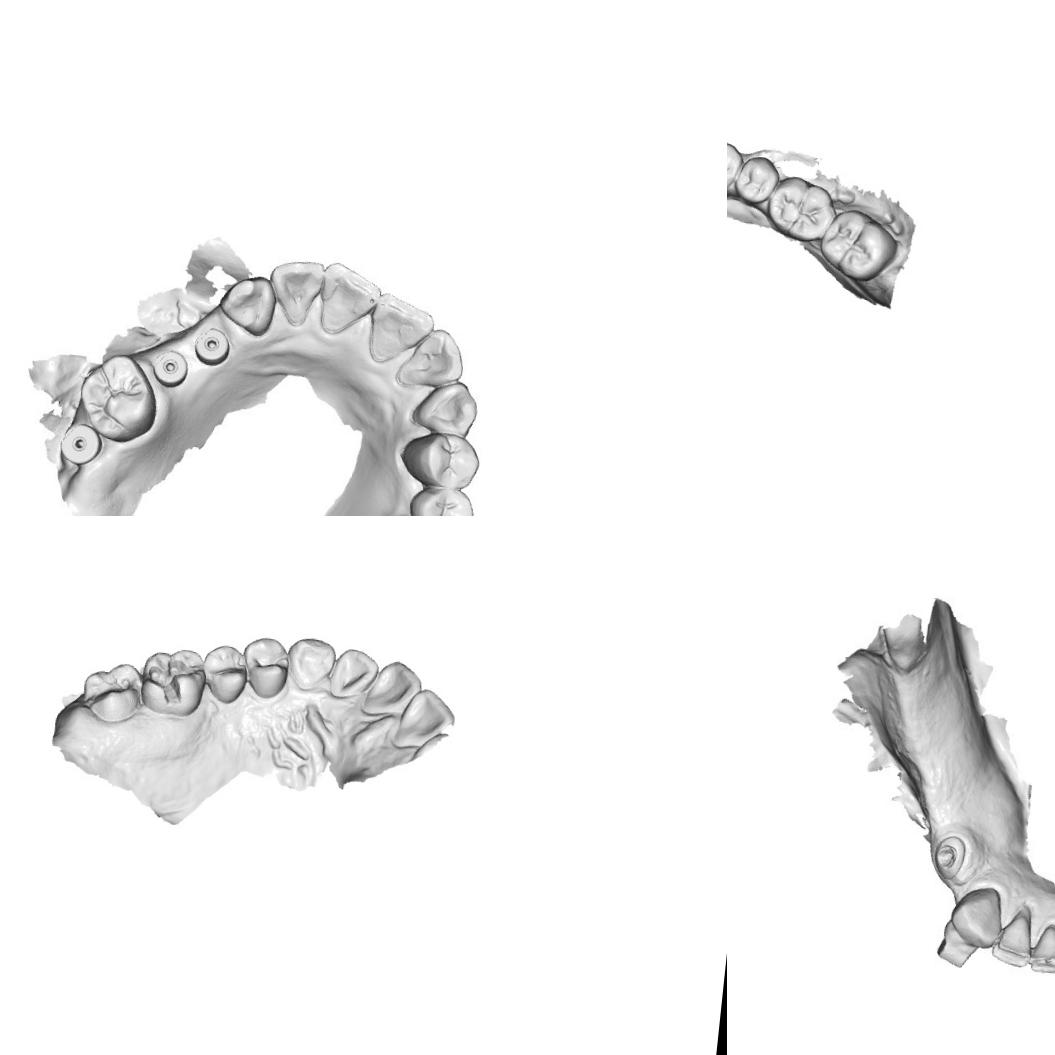canine: (410, 378, 482, 442), (217, 272, 280, 342), (946, 878, 1006, 951), (283, 635, 337, 693)
implant: (927, 830, 973, 882), (60, 424, 103, 465), (153, 344, 193, 388), (192, 324, 232, 364)
incisor: (366, 294, 433, 370), (314, 266, 382, 335), (390, 685, 458, 754), (397, 327, 462, 394), (360, 657, 425, 719), (268, 260, 324, 327), (328, 646, 381, 704), (992, 898, 1038, 962), (1028, 925, 1055, 970)
inlay: (139, 652, 204, 712)
molar: (72, 348, 164, 448), (816, 205, 902, 285), (762, 172, 841, 246), (78, 658, 145, 726)
premolar: (393, 429, 482, 492), (237, 634, 294, 701), (199, 642, 252, 706), (733, 154, 780, 210), (403, 482, 475, 516), (727, 138, 745, 202)
